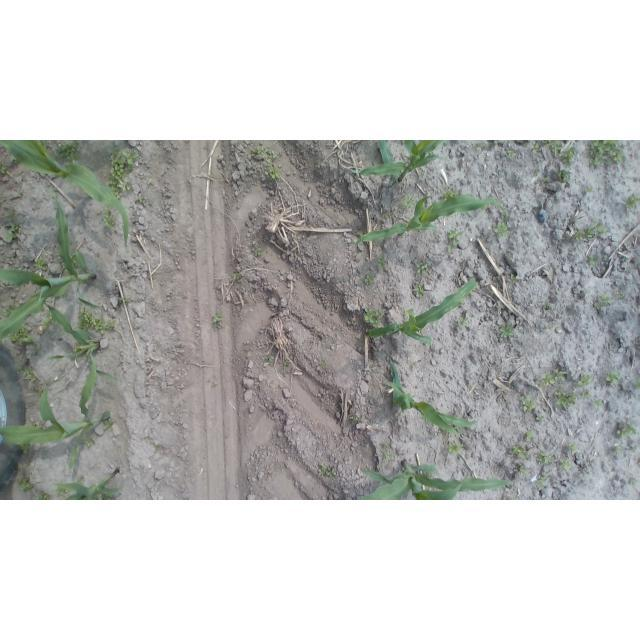Maize: (0, 186, 100, 338), (1, 141, 130, 250), (0, 352, 110, 470), (355, 194, 509, 249), (362, 277, 479, 345), (386, 360, 479, 437), (352, 460, 514, 501), (41, 302, 118, 384), (347, 140, 447, 184), (55, 469, 122, 500)
Weeds: (106, 147, 138, 199), (76, 310, 116, 335), (252, 145, 280, 179), (588, 141, 624, 167), (543, 141, 576, 164), (574, 220, 608, 240), (54, 140, 80, 165), (5, 209, 21, 243), (539, 367, 567, 386), (555, 391, 578, 410), (9, 328, 36, 344), (363, 305, 382, 327), (594, 294, 613, 311), (18, 366, 37, 383), (617, 423, 638, 438), (447, 229, 461, 251), (535, 451, 554, 466), (510, 444, 530, 458), (43, 310, 56, 331), (54, 482, 70, 498), (604, 369, 620, 385), (103, 209, 116, 228), (318, 463, 334, 478), (499, 322, 514, 338), (494, 222, 508, 239), (448, 440, 465, 454), (521, 396, 535, 413), (401, 196, 415, 213), (585, 253, 600, 268), (18, 476, 33, 490), (624, 195, 640, 208), (442, 187, 459, 199), (413, 282, 425, 299), (33, 256, 47, 270), (557, 169, 571, 183), (416, 261, 429, 276), (382, 446, 394, 462), (577, 373, 591, 386), (69, 252, 79, 269), (537, 475, 550, 488), (560, 458, 573, 471), (566, 442, 579, 455), (213, 311, 223, 327), (523, 430, 535, 443), (2, 304, 14, 316), (456, 317, 469, 328), (36, 492, 51, 501), (253, 246, 264, 258), (103, 419, 114, 431), (378, 255, 387, 269), (264, 356, 275, 367), (31, 346, 41, 358), (593, 399, 604, 409), (507, 148, 518, 158), (0, 160, 8, 173), (85, 437, 95, 447), (20, 445, 30, 455), (612, 444, 622, 454), (518, 465, 527, 476), (365, 274, 376, 283), (405, 309, 414, 320), (531, 142, 540, 153), (350, 415, 361, 424), (29, 422, 43, 429), (582, 389, 591, 399), (585, 186, 596, 194), (509, 274, 518, 283), (99, 495, 115, 500), (615, 290, 625, 298), (542, 302, 552, 310), (535, 414, 545, 422), (119, 297, 130, 304), (629, 446, 637, 455), (138, 195, 147, 203), (633, 380, 640, 390), (476, 140, 484, 148), (233, 272, 241, 280), (154, 443, 162, 451), (319, 359, 327, 367), (77, 476, 85, 484), (210, 381, 218, 389), (146, 179, 154, 187), (357, 231, 367, 237), (283, 360, 291, 367), (386, 212, 394, 219), (11, 157, 18, 164), (365, 328, 372, 335), (17, 191, 24, 198), (490, 140, 498, 146), (630, 479, 637, 485), (546, 325, 553, 331), (543, 177, 550, 183), (535, 169, 541, 175), (369, 366, 374, 370)
